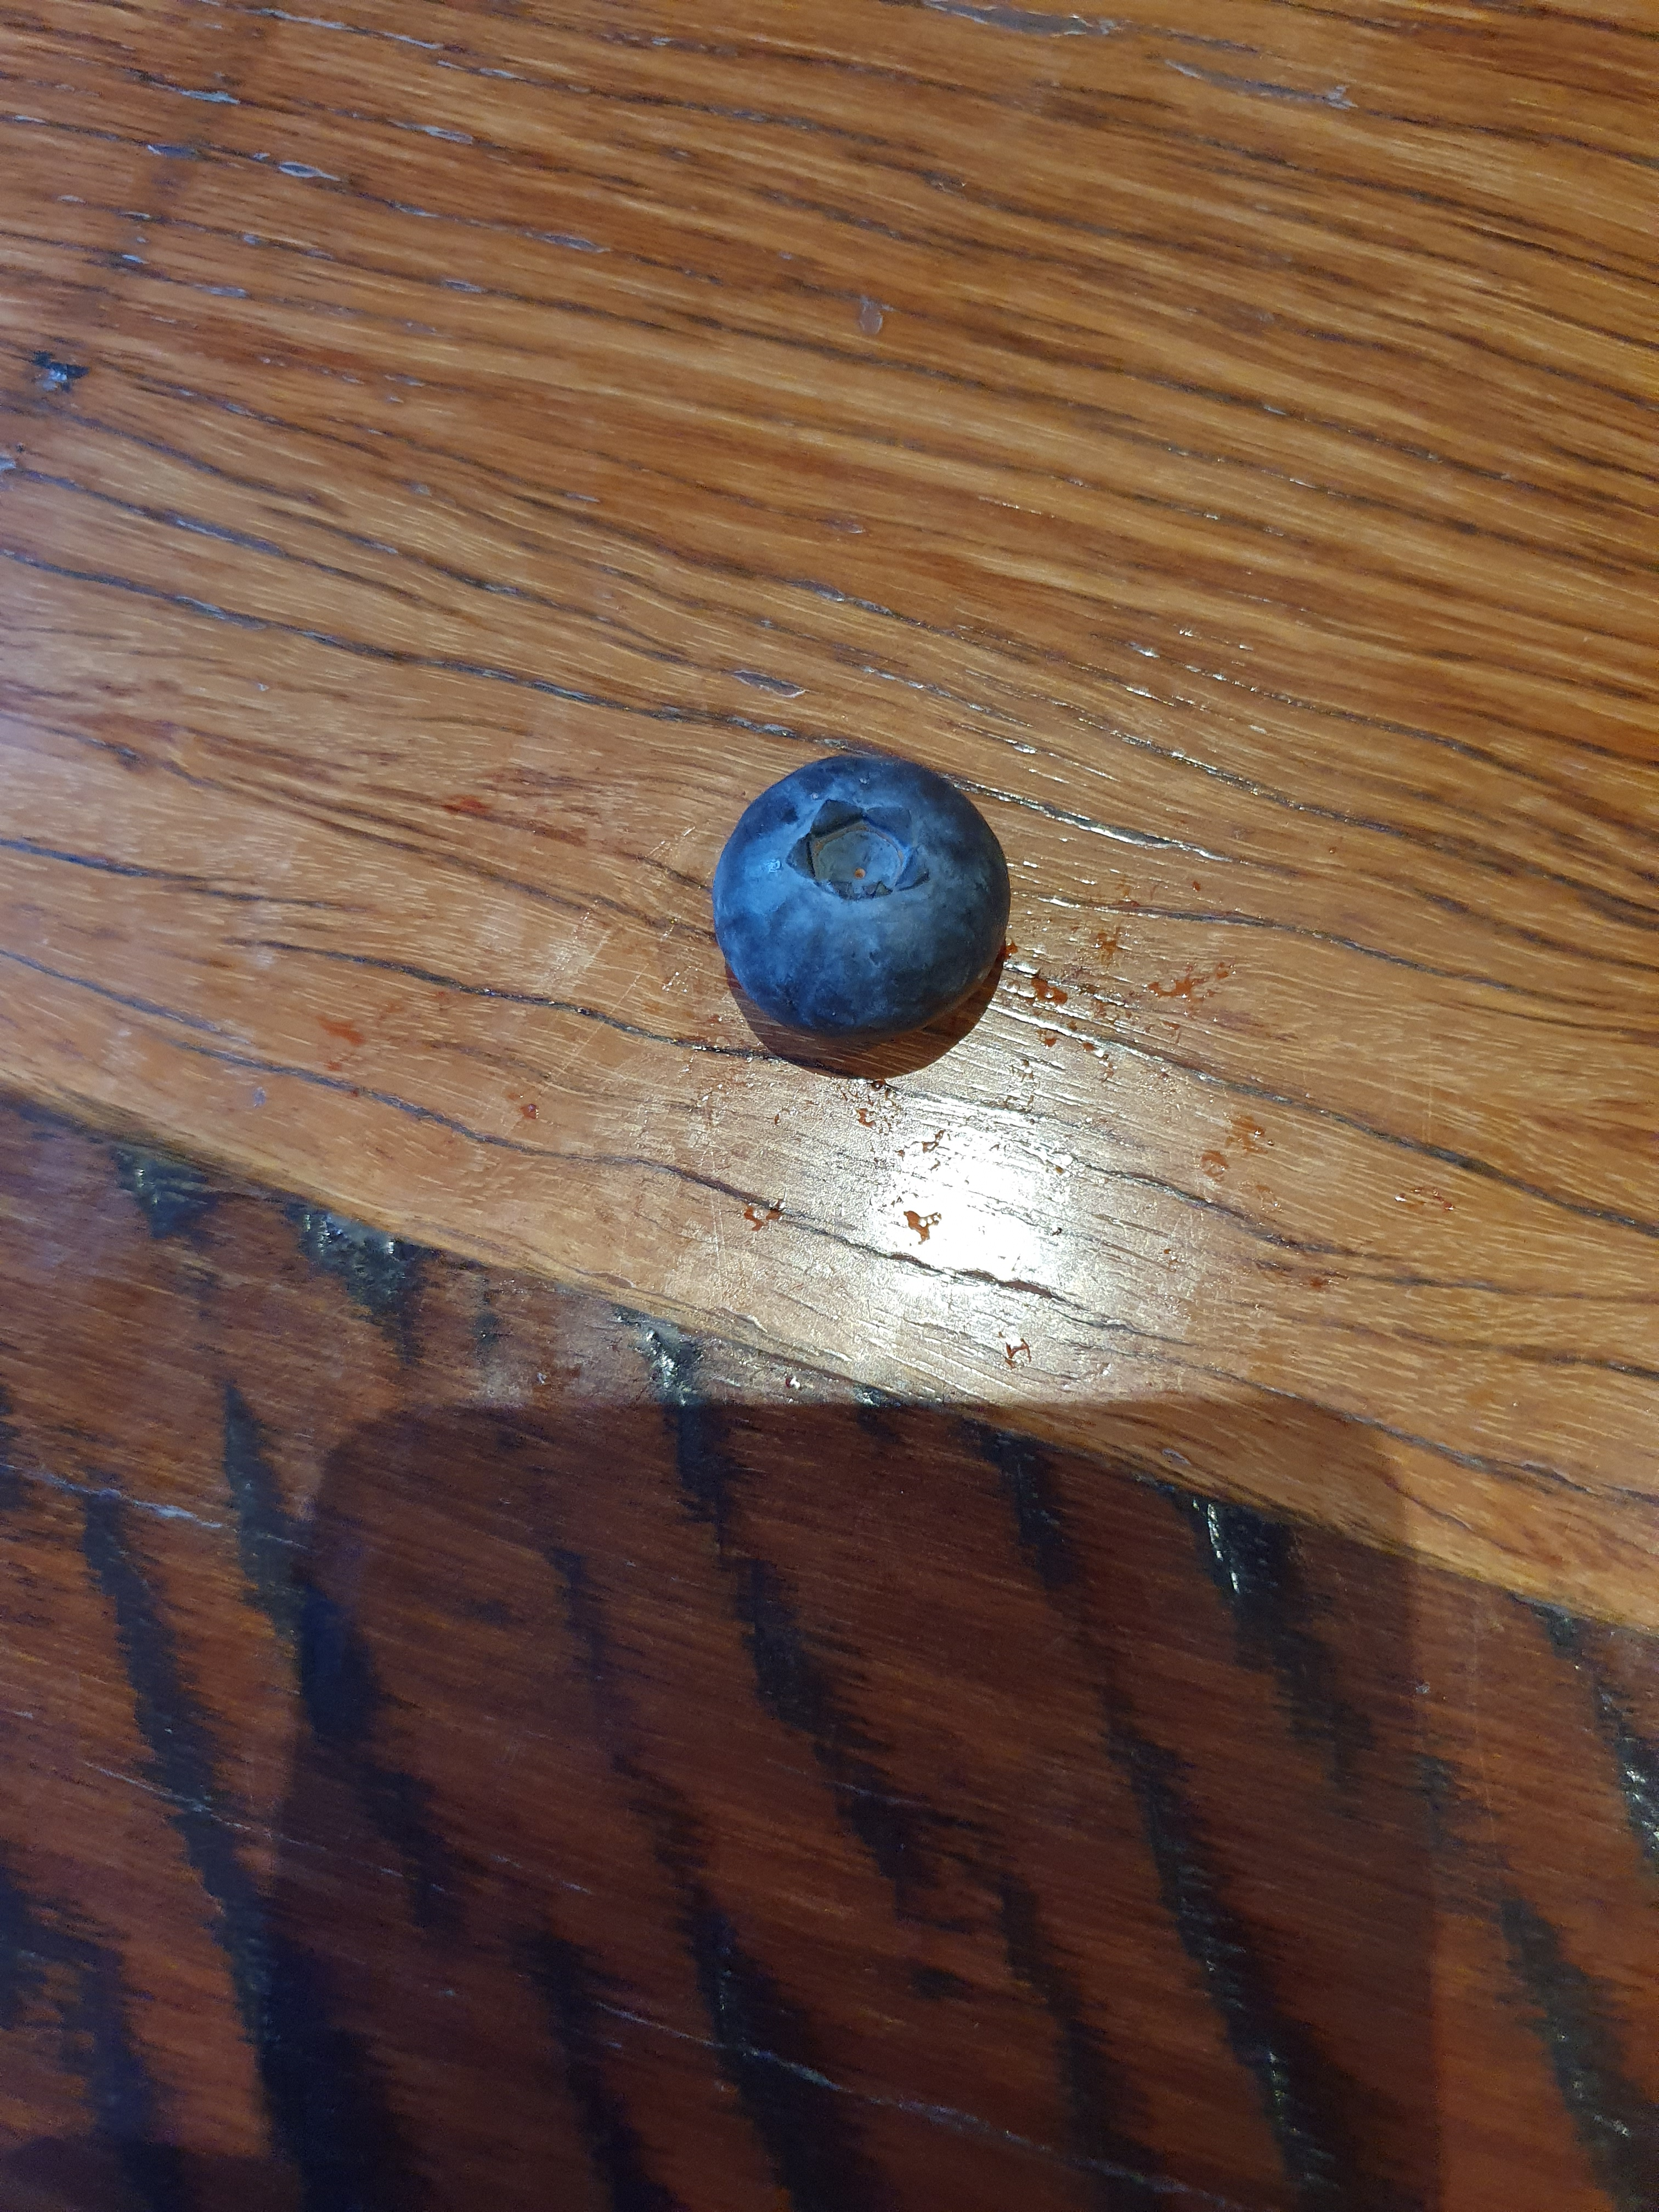blueberry: (676, 733, 1032, 1092)
